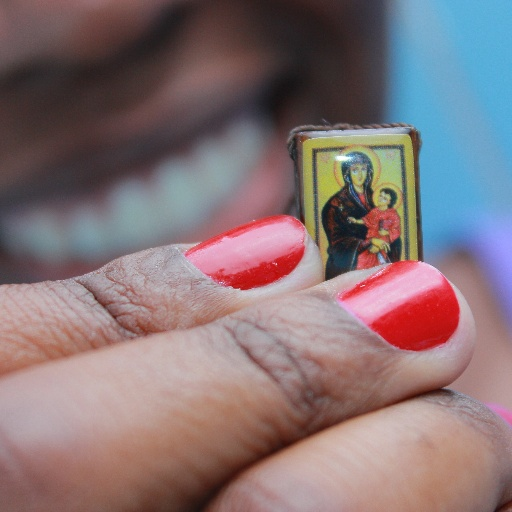hand: (0, 229, 512, 493), (369, 236, 391, 253), (369, 243, 380, 254), (376, 228, 389, 235), (345, 215, 355, 224)
